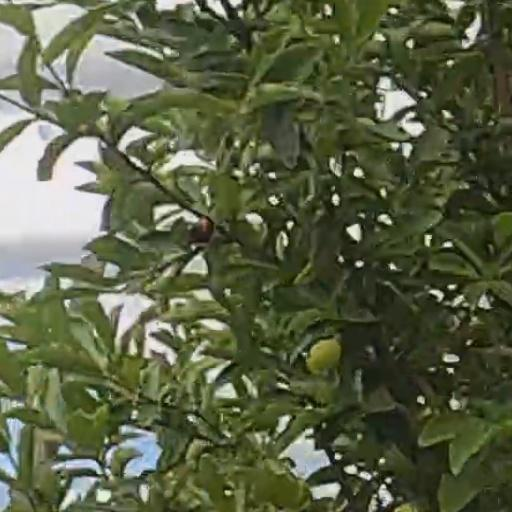acerola_verde: (305, 340, 340, 374)
